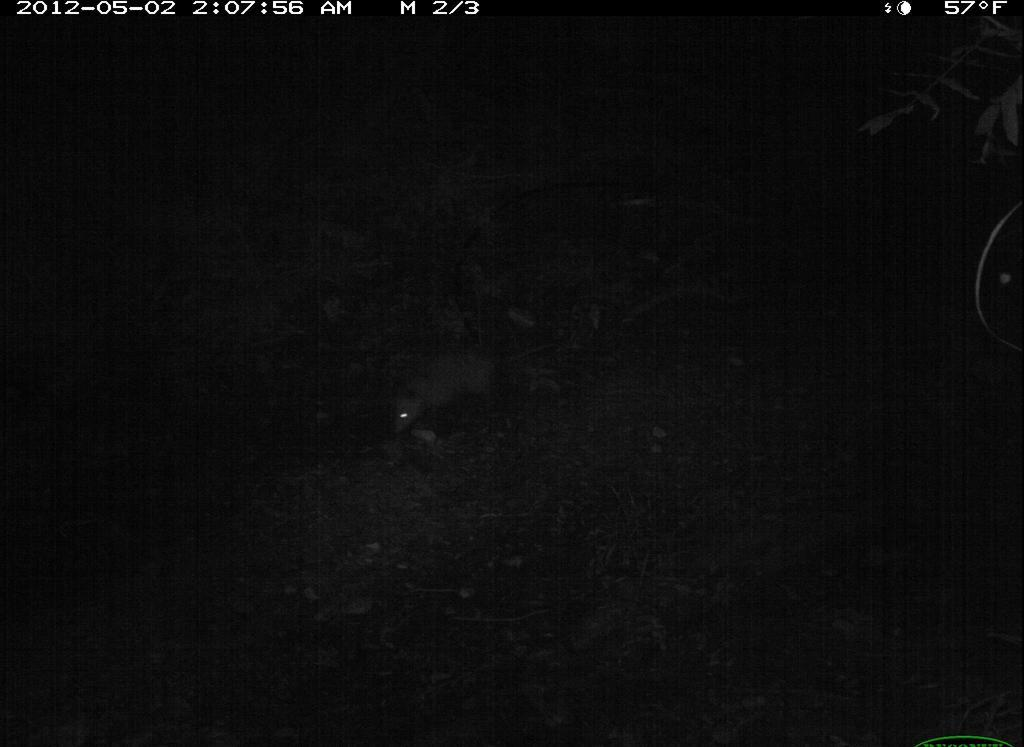opossum: (367, 309, 569, 455)
